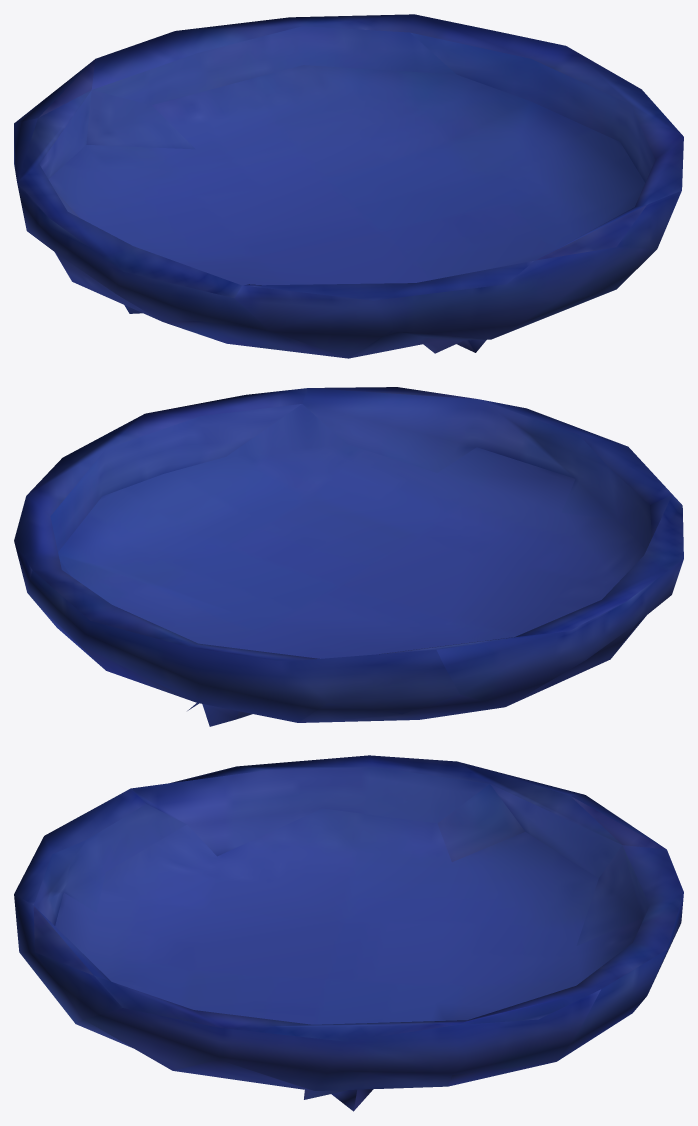
3 views of the same model, one above another, from view 1: azimuth 30°, elevation 25°; view 2: azimuth 150°, elevation 25°; view 3: azimuth 270°, elevation 25° (orthographic).
Visible parts, largest first — view 1: tripo_part_15; view 2: tripo_part_15; view 3: tripo_part_15.
Part boxes in pixels (x1,y1,x2,y2): tripo_part_15: (14,14,683,358); tripo_part_15: (14,387,683,726); tripo_part_15: (14,755,683,1111).
Size of the model in its own units: 0.0853 by 0.0166 by 0.0856.
Materials: 1 (1 with a texture image).
